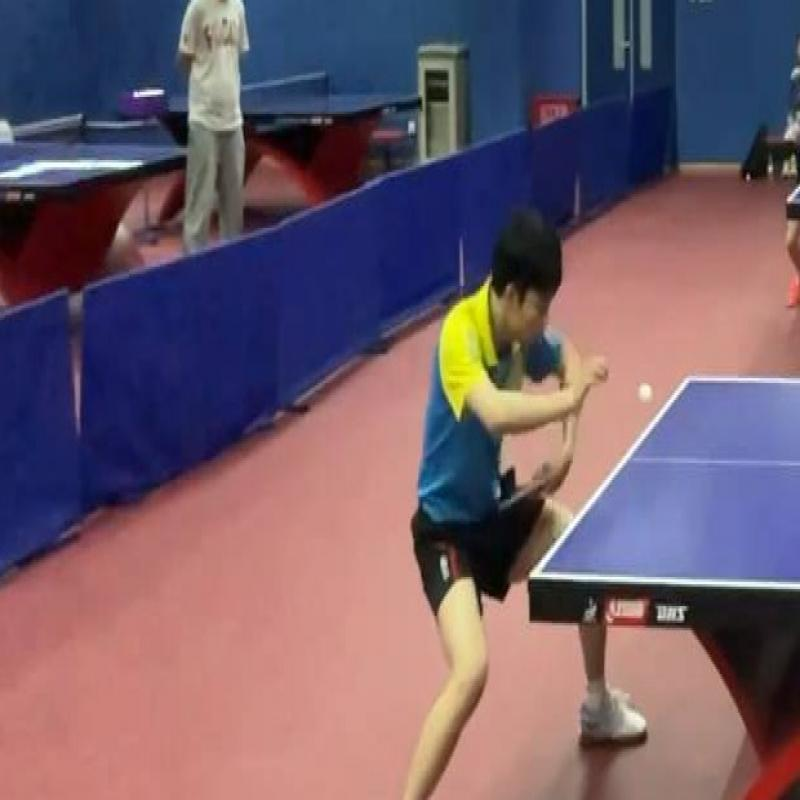bats: (498, 458, 555, 519)
